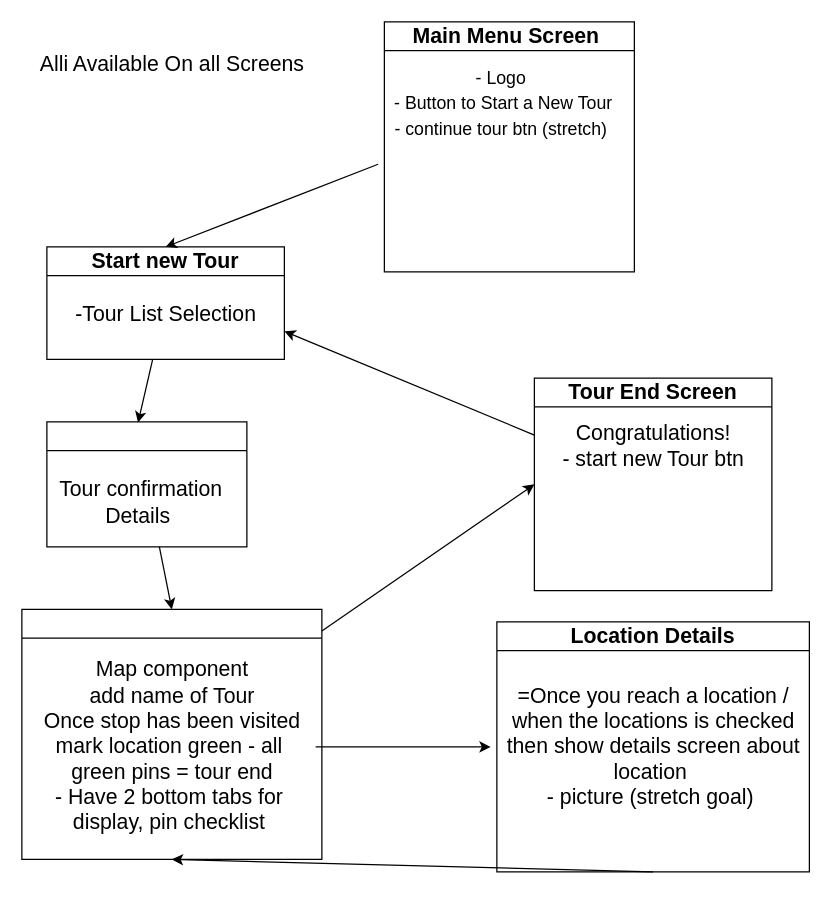
This 838x904 diagram has some shape labels left out. Each missing label, with the box of its shape:
Map Route of Tour: (21, 608, 322, 859)
Tour Details: (46, 421, 247, 547)
